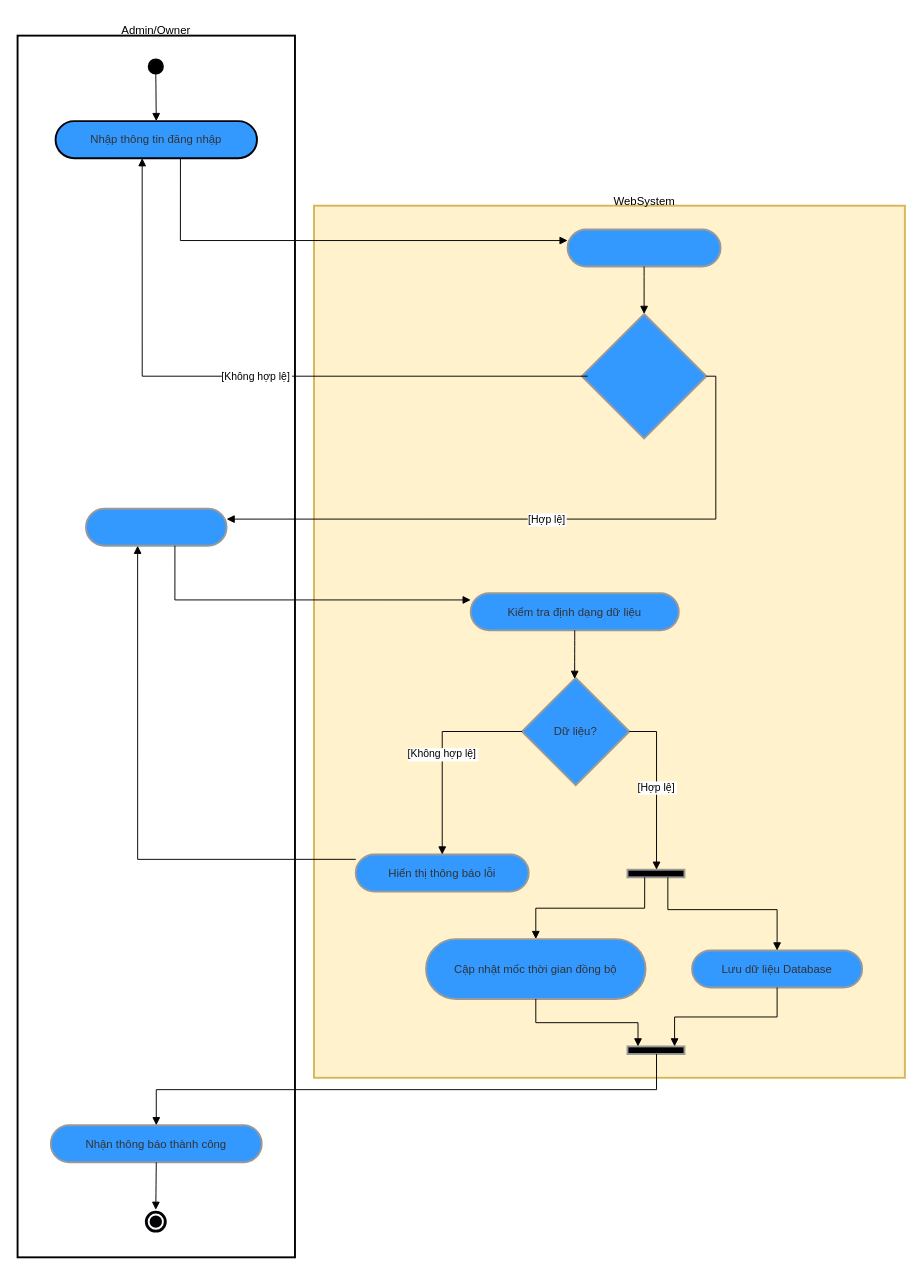
The diagram is 922 pixels wide and 1274 high, and some of its shapes have lost their labels. The centre of each missing label's shape, as x and y in pixels:
"Nhập dữ liệu POI" goes at point 156,526.
"Tài khoản?" goes at point 643,376.
"Xác thực tài khoản" goes at point 643,247.
